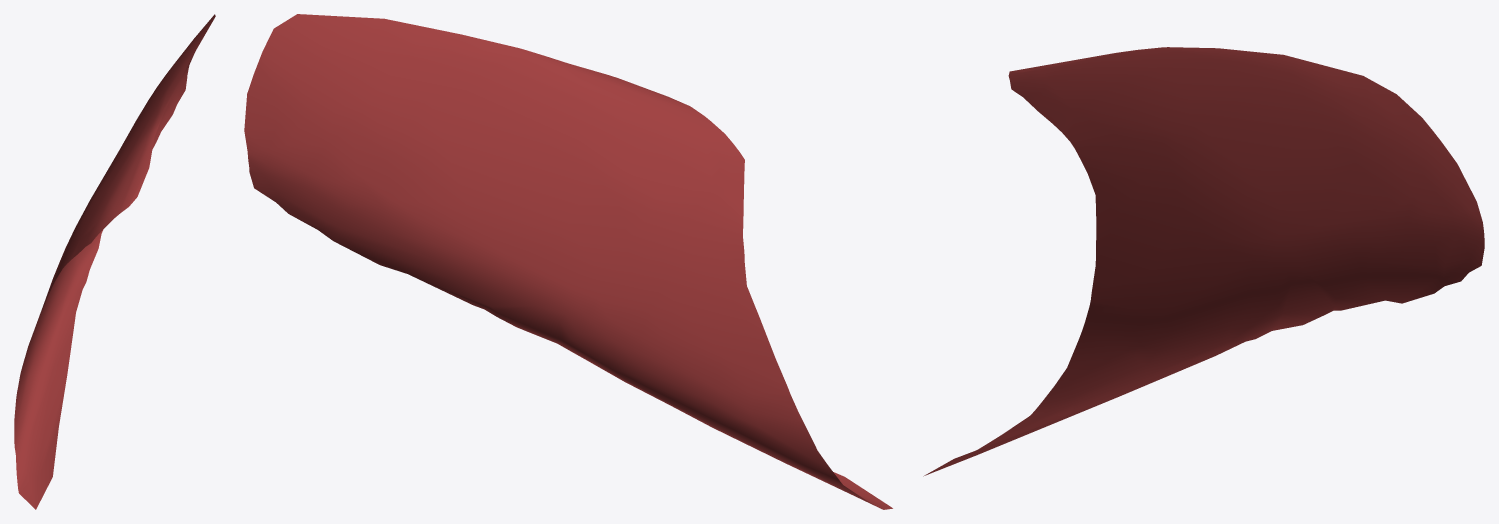
Rendered from serratus-posterior-superior-muscle-e2l.glb.
3 renders of one model, left to right at view 1: azimuth 30°, elevation 25°; view 2: azimuth 150°, elevation 25°; view 3: azimuth 270°, elevation 25°, orthographic. The views are drawn at different scales.
Parts seen in each view (by area): view 1: Serratus posterior superior muscle.e2l; view 2: Serratus posterior superior muscle.e2l; view 3: Serratus posterior superior muscle.e2l.
Part boxes in pixels (x1,y1,x2,y2): Serratus posterior superior muscle.e2l: (14,14,215,509); Serratus posterior superior muscle.e2l: (244,14,892,509); Serratus posterior superior muscle.e2l: (923,47,1484,476).
Size of the model in its own units: 0.0238 by 0.0254 by 0.0189.
